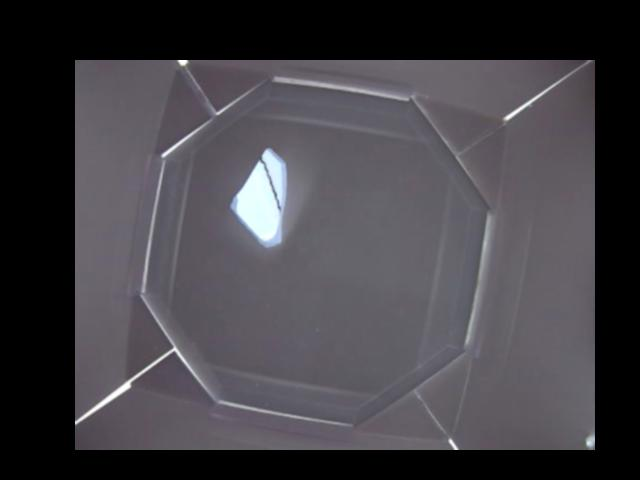China: (228, 146, 290, 246)
